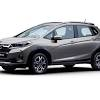Honda: (1, 20, 100, 73)
